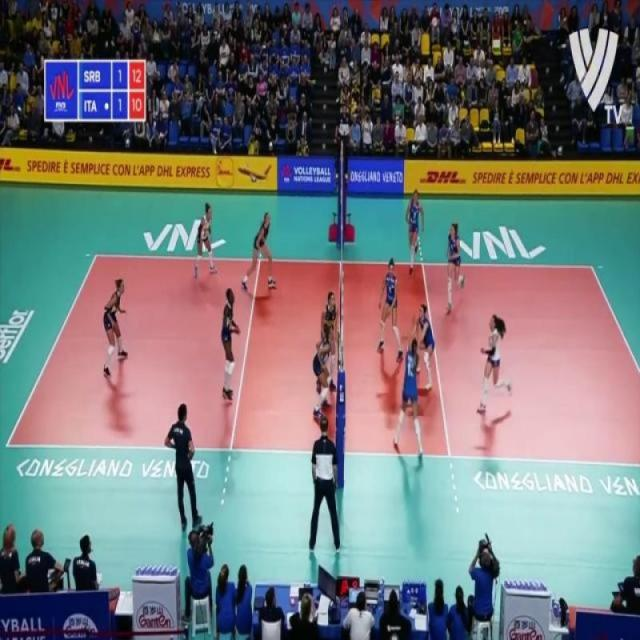volleyball: (410, 62, 418, 78)
